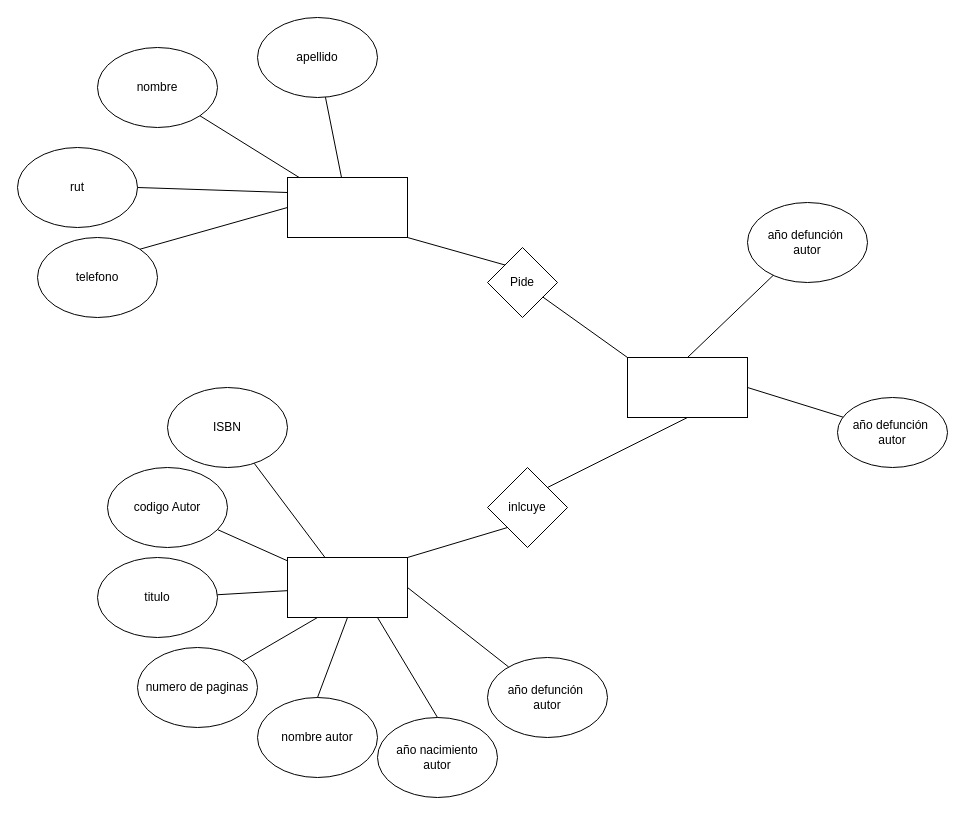
The diagram is 965 pixels wide and 815 high, and some of its shapes have lost their labels. Each missing label, with the box of its shape:
libro: (286, 556, 408, 618)
prestamo: (626, 356, 748, 418)
socios: (286, 176, 408, 238)
